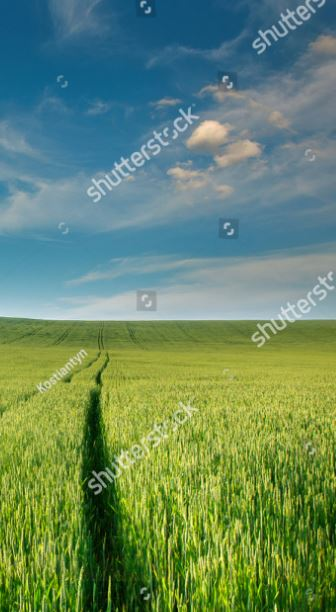Wheat: (126, 457, 331, 590)
